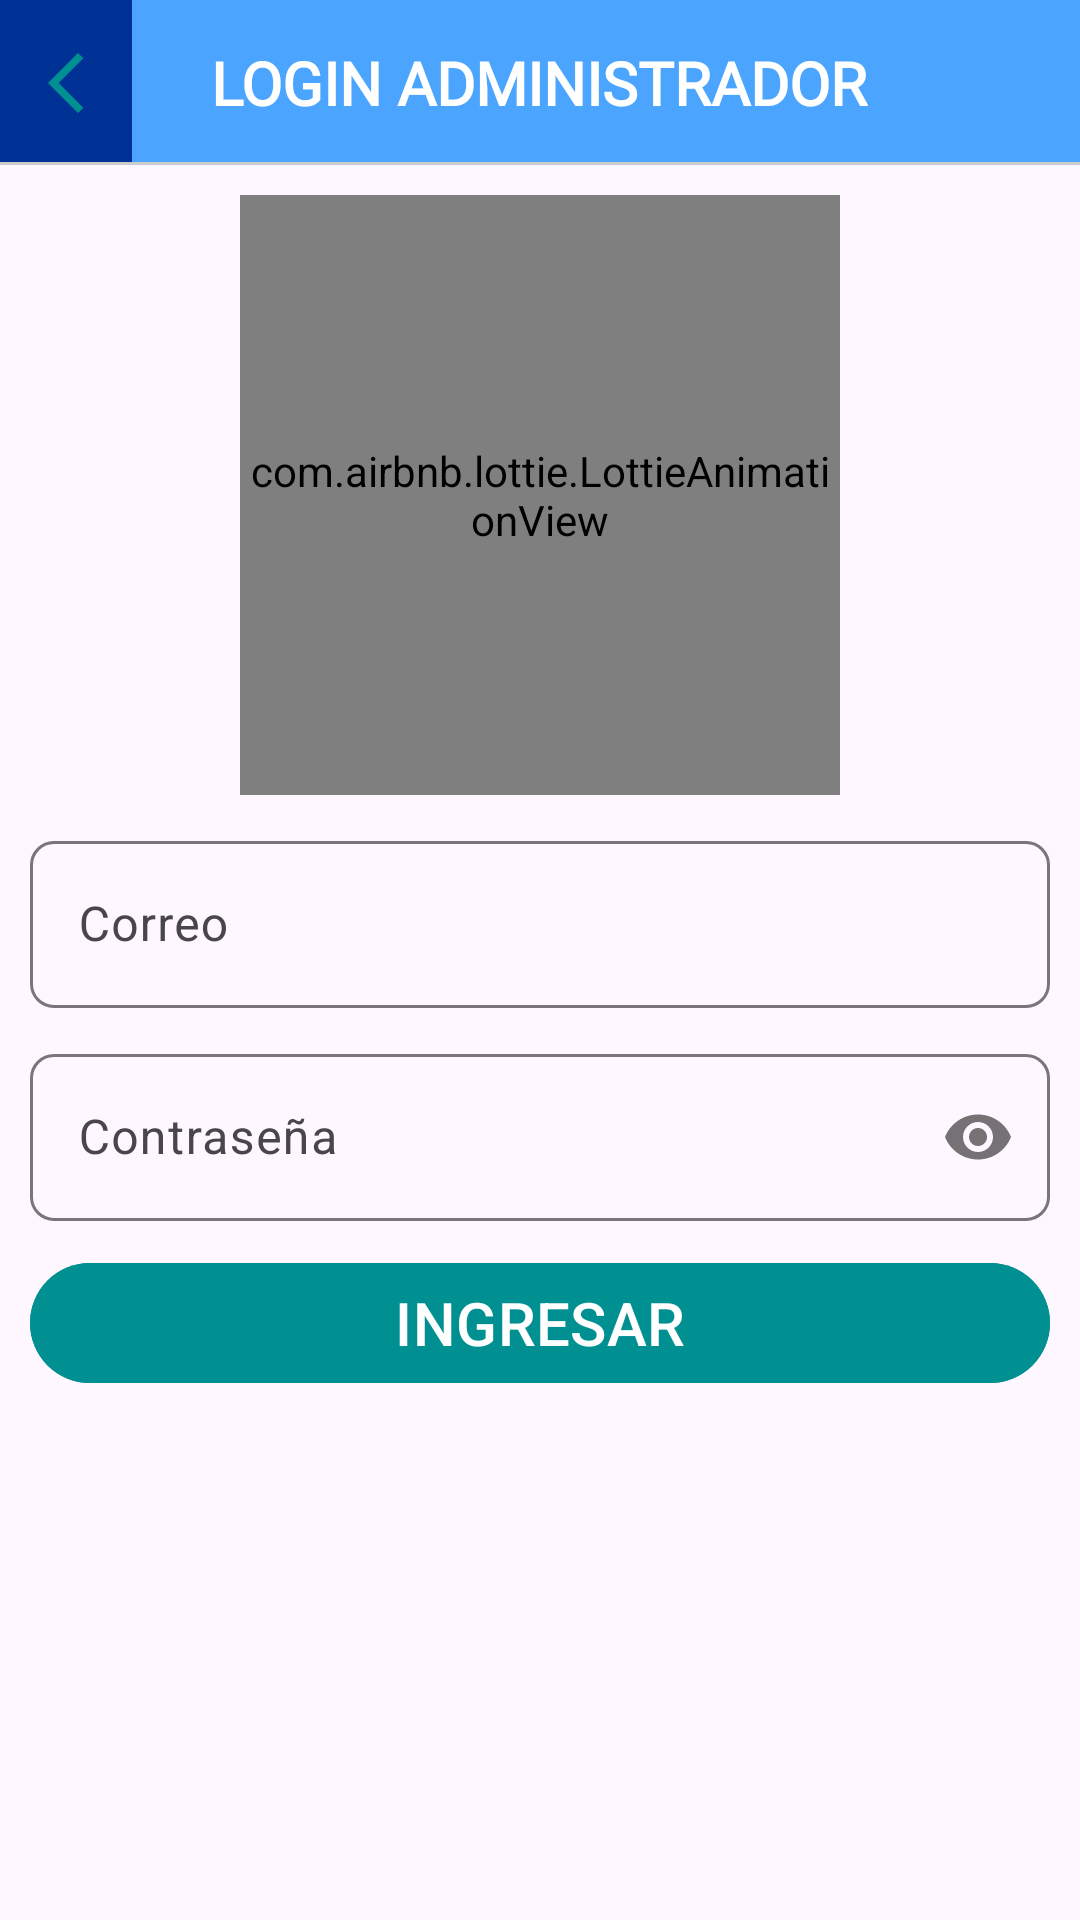

Where to tap for icons on this 1080 x 1920 app screen, as (x=x, y=y):
regresar: (x=66, y=82)
